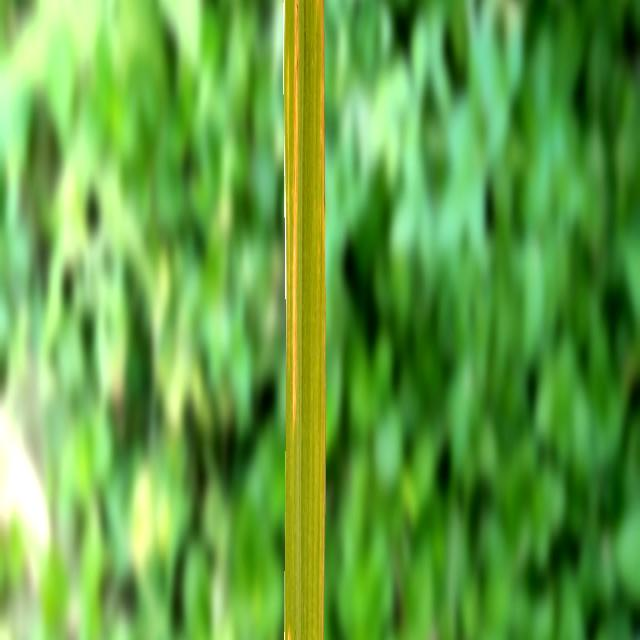BLS: (292, 0, 299, 438), (287, 52, 290, 377), (288, 625, 292, 640)
